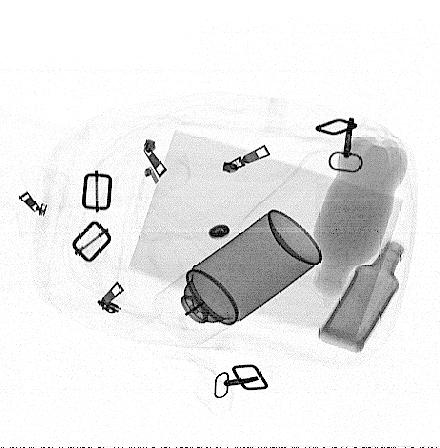Sprayer: (155, 210, 322, 346)
